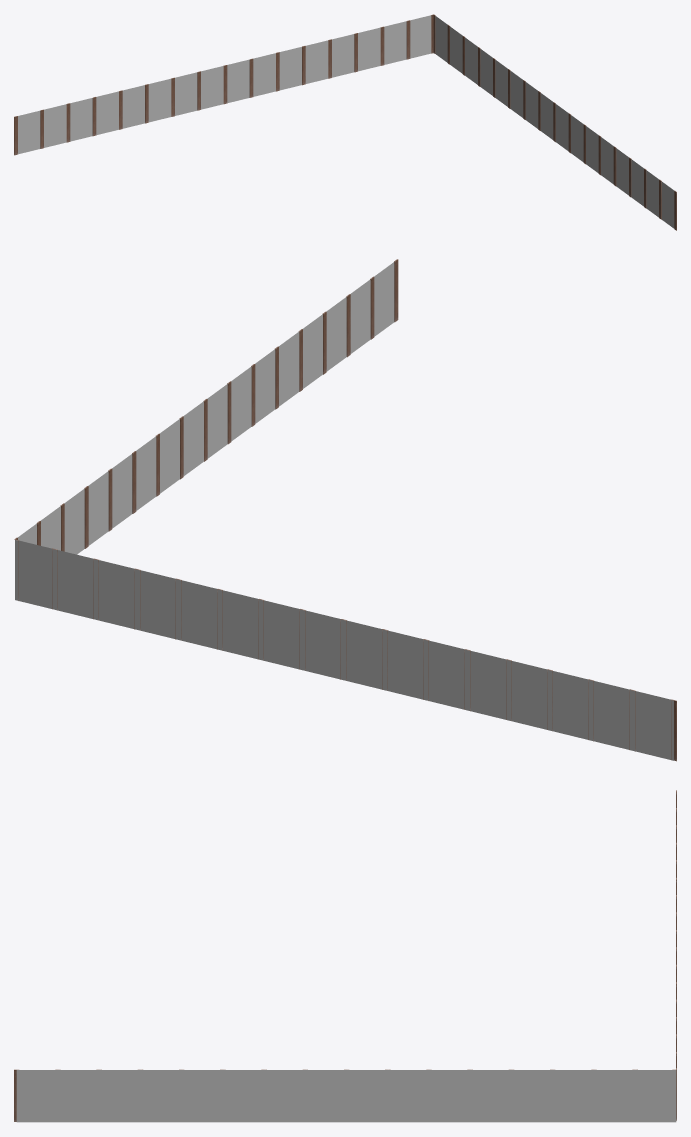
Rendered from Victorian_Walls_Corner.fbx.
3 views of the same model, one above another, from view 1: azimuth 30°, elevation 25°; view 2: azimuth 150°, elevation 25°; view 3: azimuth 270°, elevation 25° (orthographic). The views are drawn at different scales.
Parts seen in each view (by area): view 1: polySurface4816; view 2: polySurface4816; view 3: polySurface4816.
Part boxes in pixels (x1,y1,x2,y2): polySurface4816: [14, 14, 676, 230]; polySurface4816: [14, 259, 676, 761]; polySurface4816: [14, 790, 676, 1122].
Size of the model in its own units: 8724 by 8739 by 762.
